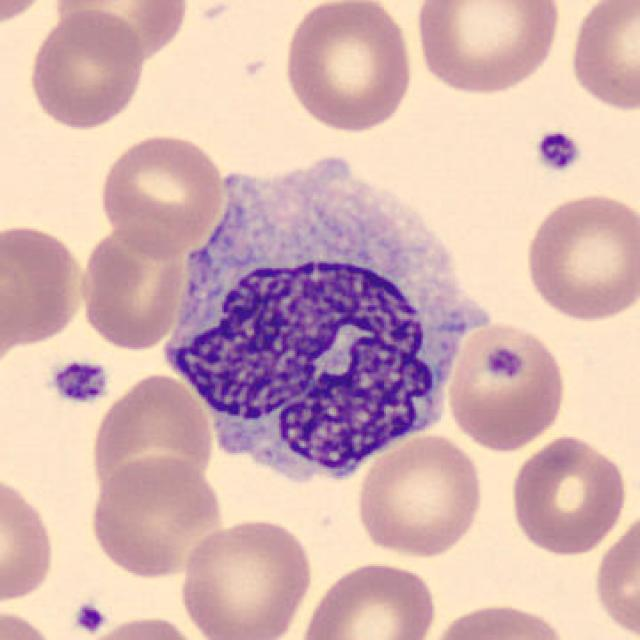Monocyte: (153, 143, 491, 492)
Platelets: (48, 356, 112, 407), (480, 341, 530, 389), (532, 127, 583, 174), (70, 600, 108, 636)
RBC: (279, 0, 418, 134), (87, 368, 217, 508), (86, 453, 228, 580), (176, 515, 316, 640), (352, 430, 487, 559), (442, 317, 570, 453), (94, 131, 228, 259), (521, 188, 638, 324), (507, 432, 631, 559), (25, 7, 147, 132), (411, 0, 565, 99), (74, 224, 188, 353), (297, 557, 441, 640), (0, 218, 89, 352), (50, 0, 192, 65), (565, 0, 638, 116), (0, 469, 59, 608), (590, 504, 638, 640), (421, 597, 572, 640), (73, 612, 208, 640), (71, 603, 139, 638), (0, 604, 64, 640), (0, 0, 55, 28)
